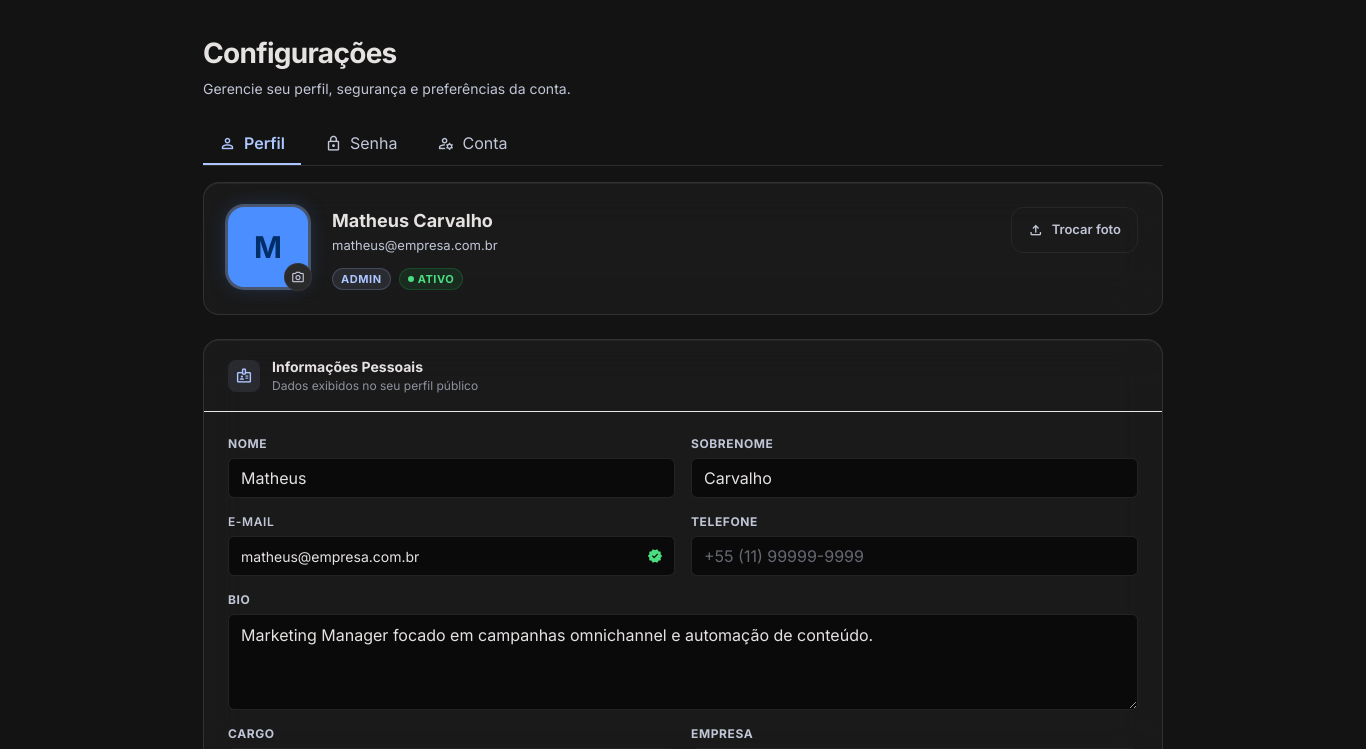
Test: UserSettingsPage › switches to security tab
The width and height of the screenshot is (1366, 749).
Click the tab "Senha" at (361, 144), box top-left (309, 123), bottom-right (414, 165)
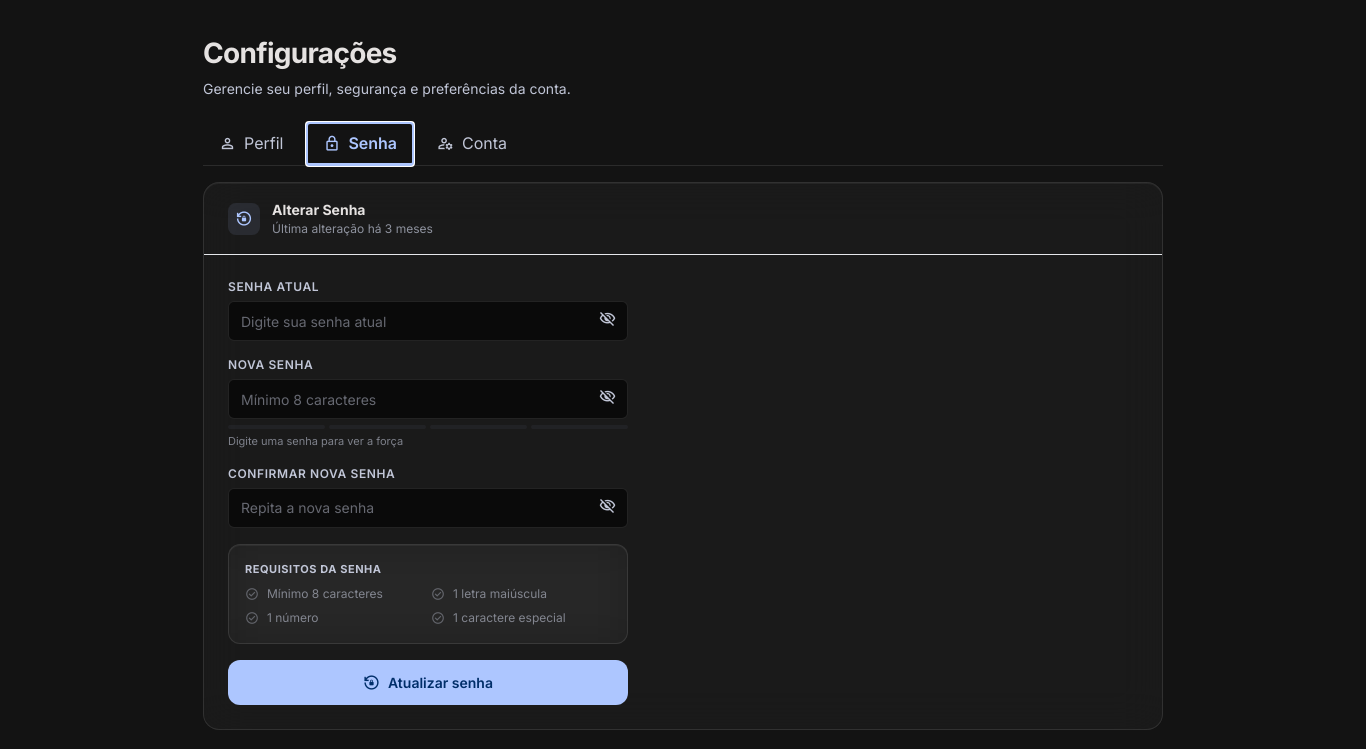
expect the heading "Alterar Senha" is shown: met, box top-left (272, 201), bottom-right (366, 218)
